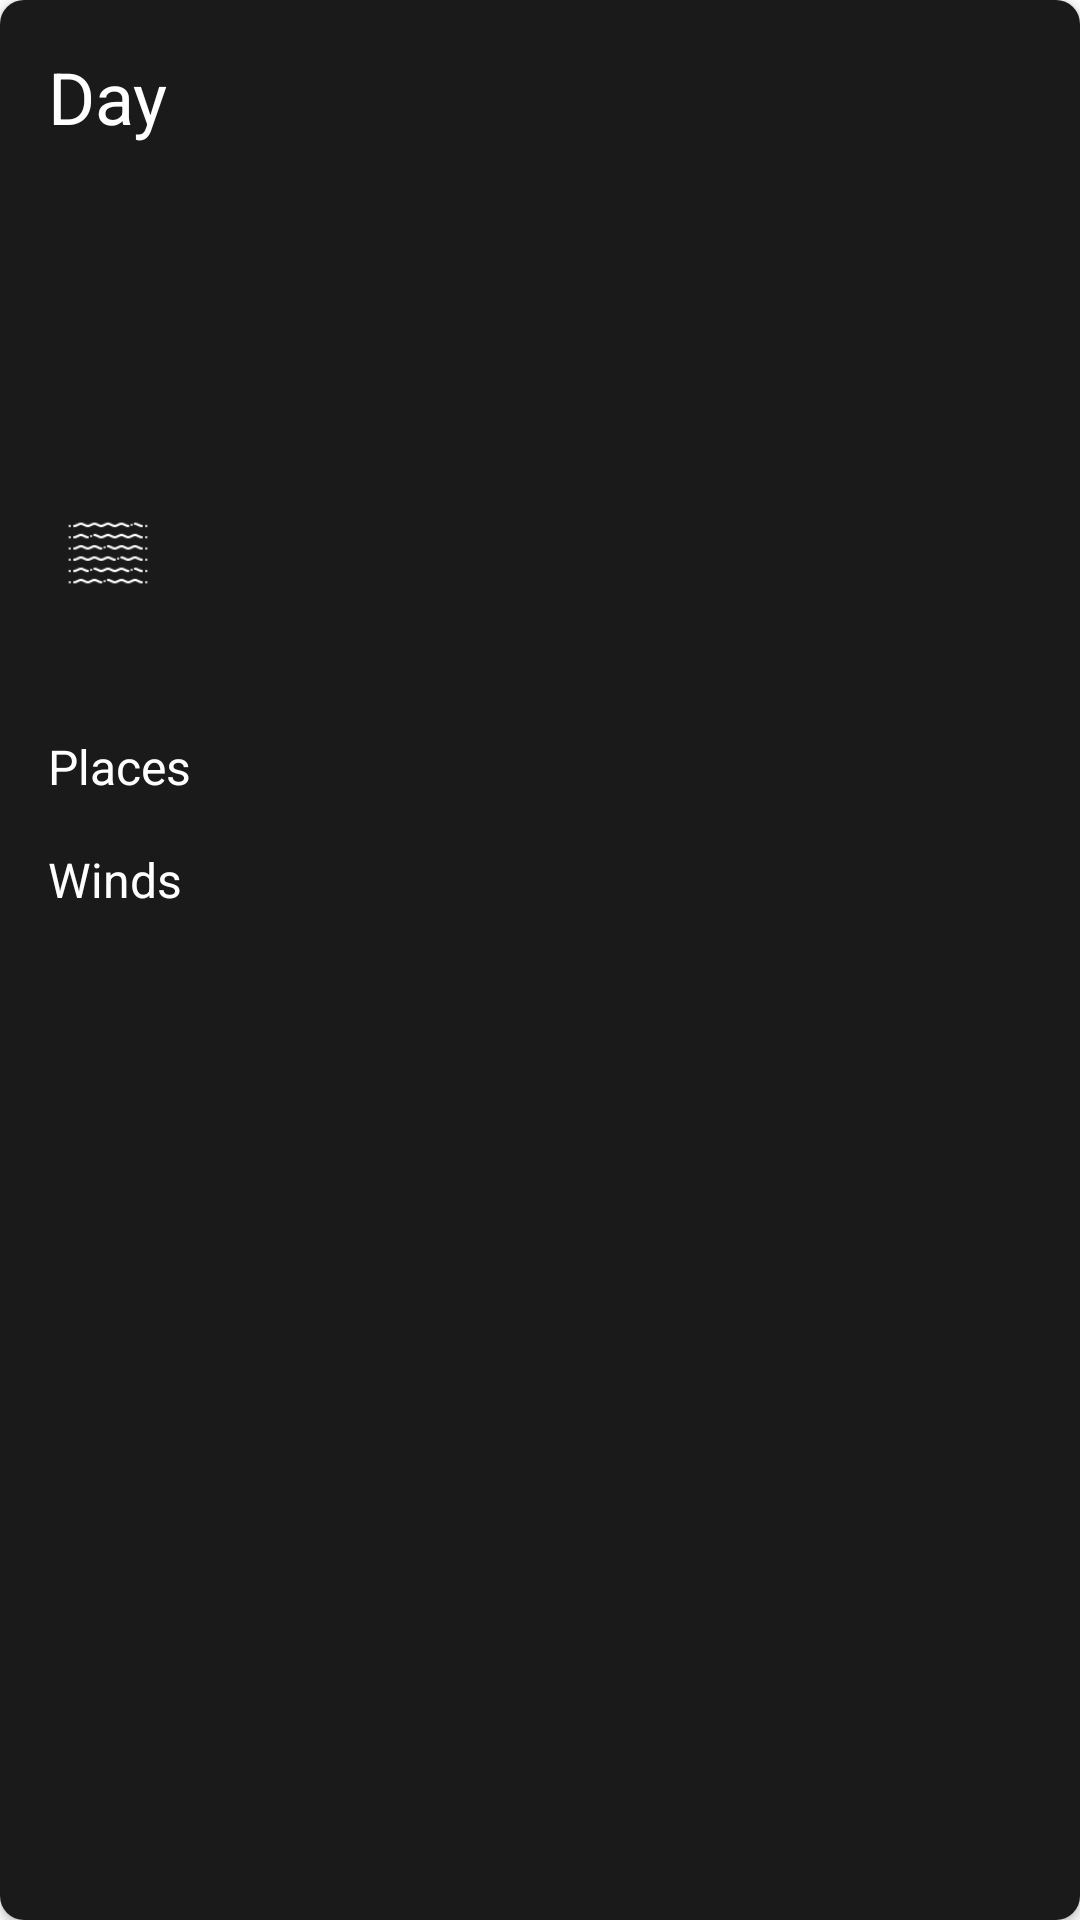

Point at icon controls on the screen. Image size 1080 x 1920, points as point (x, y).
sea desc: point (108, 553)
